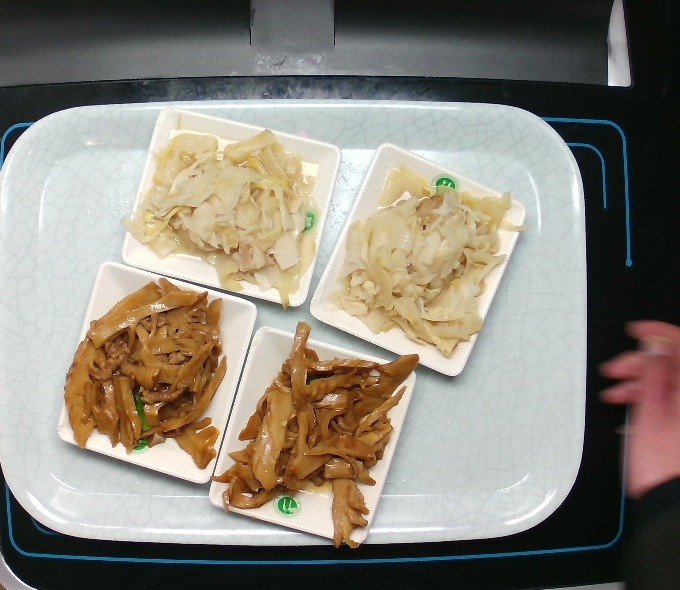wcq-LuSun: (330, 161, 532, 357), (122, 121, 323, 300)
wcq-SunGan: (212, 337, 422, 530), (55, 282, 235, 462)
